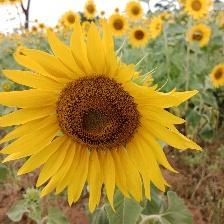sunflower: (1, 14, 207, 215)
